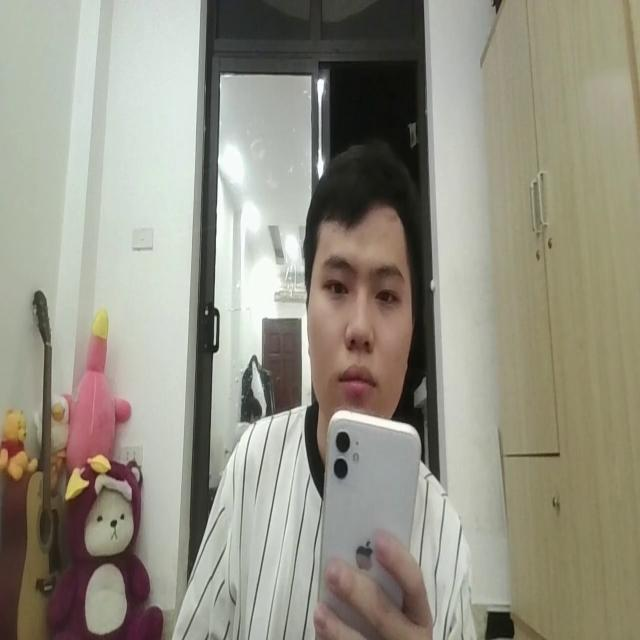phone: (320, 406, 420, 640)
student: (166, 142, 476, 640)
